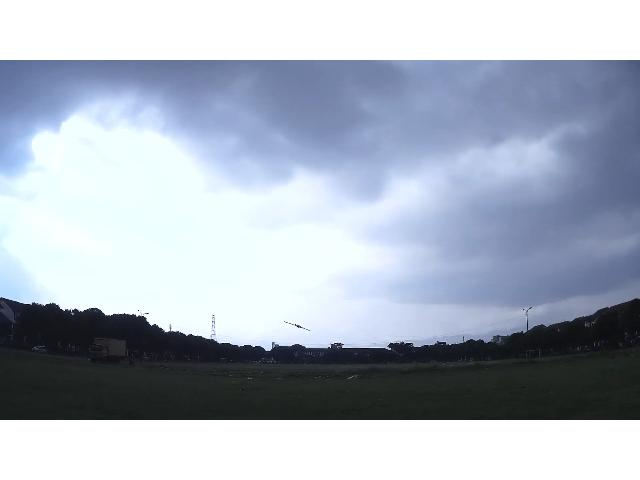Anti-Drone: (284, 321, 310, 331)
